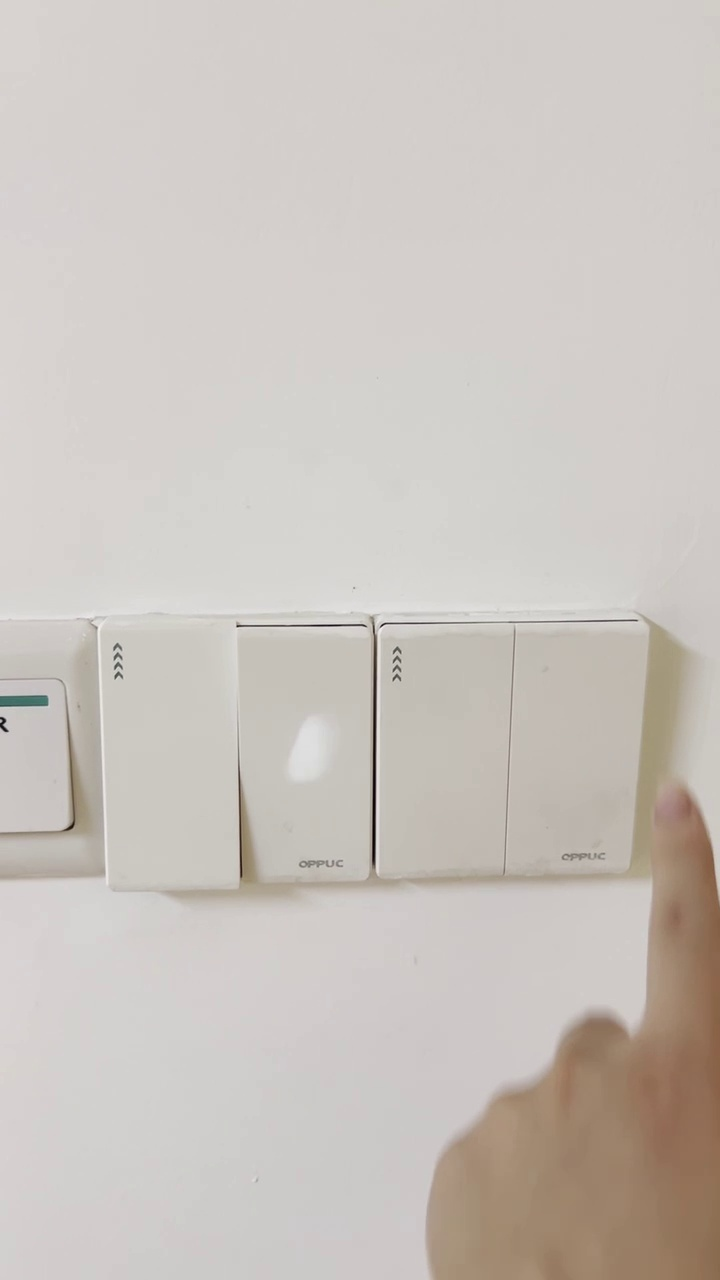button1: (104, 629, 238, 880), (245, 631, 368, 878), (515, 631, 638, 868), (385, 629, 503, 870)
